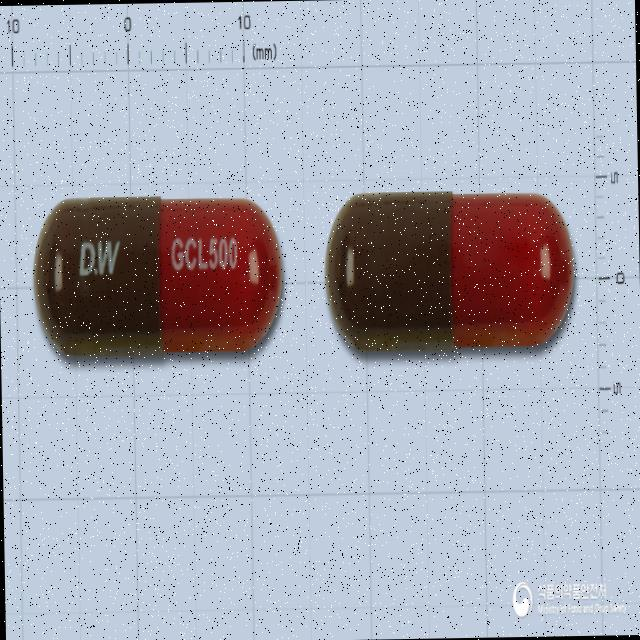Gomcillin Cap -250mg: (31, 190, 284, 364), (324, 188, 576, 354)
